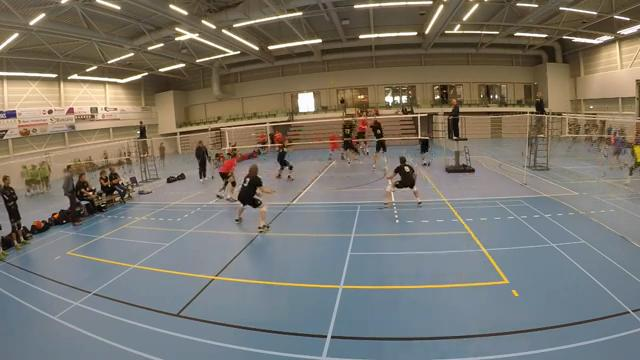Attack: (352, 109, 370, 159)
Block: (361, 110, 391, 170), (336, 109, 362, 166)
Player: (235, 164, 274, 231), (385, 156, 421, 205), (216, 156, 236, 201), (276, 139, 293, 181), (419, 133, 430, 165), (329, 134, 338, 159)
